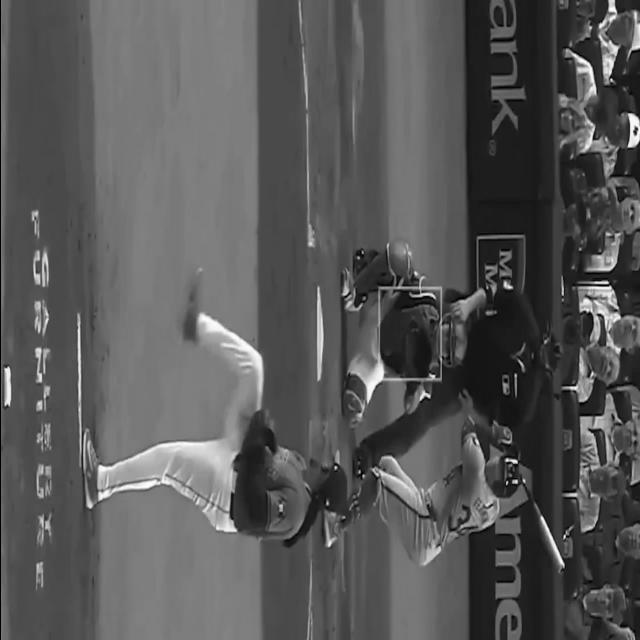baseball_glove: (399, 320, 431, 378), (241, 409, 275, 453)
bat: (520, 478, 564, 573)
shoe: (179, 269, 202, 345), (81, 427, 99, 509), (321, 511, 340, 549), (340, 269, 355, 311)
